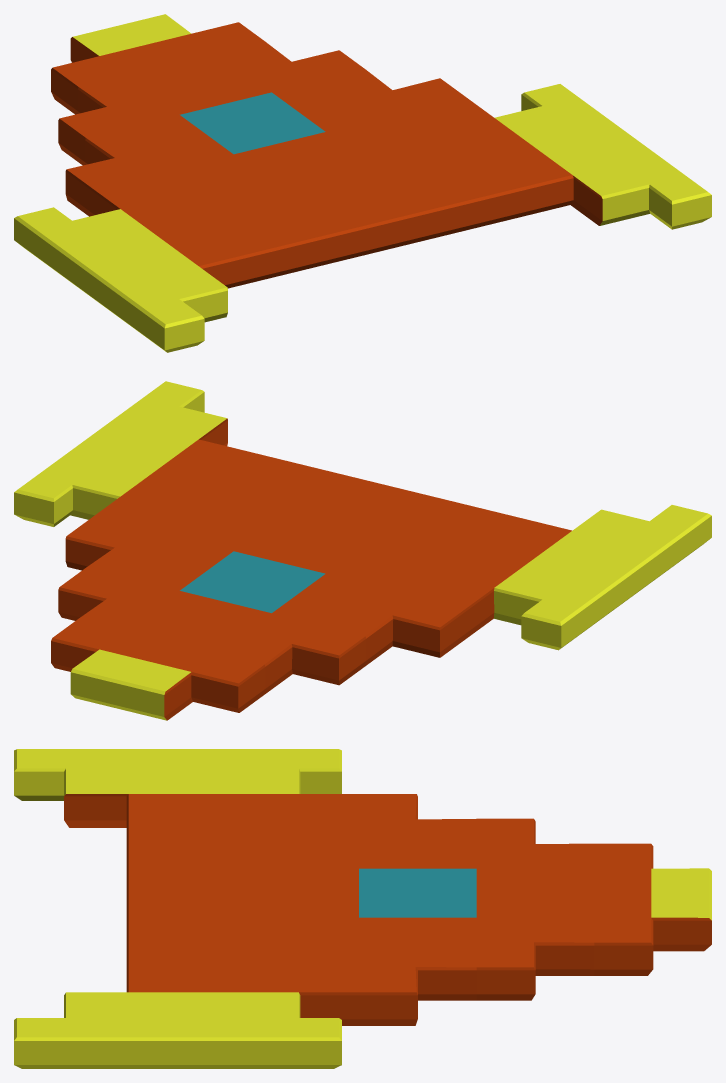
The model's file is Nave 2 la buena.fbx.
The picture shows the model from 3 angles, top to bottom: view 1: azimuth 30°, elevation 25°; view 2: azimuth 150°, elevation 25°; view 3: azimuth 270°, elevation 25°; orthographic projection. The views are drawn at different scales.
Parts seen in each view (by area): view 1: Plane; view 2: Plane; view 3: Plane.
Boxes of the visible parts, x1,y1,x2,y2 form: Plane: (14,14,711,352); Plane: (14,381,711,720); Plane: (14,749,711,1068).
Size of the model in its own units: 1238 by 67.05 by 1256.
